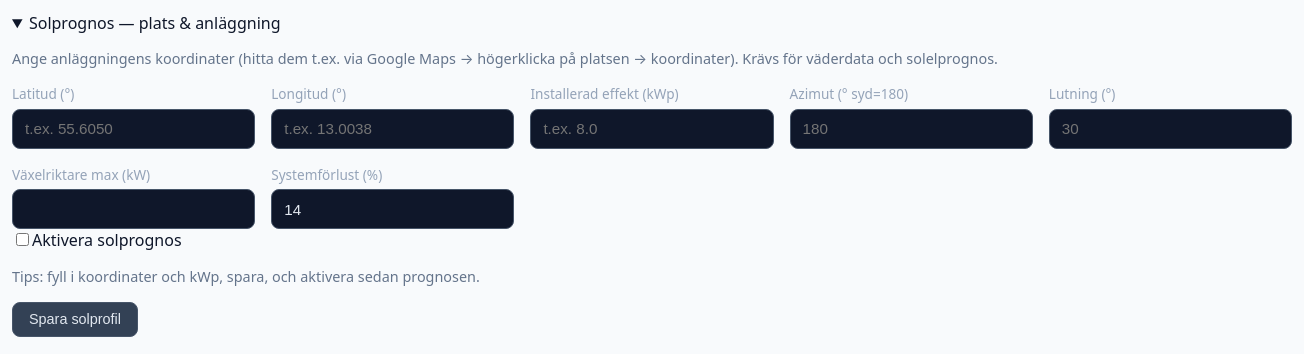
Scenario: SolarSiteConfigPanel › submits latitude and longitude
In the number field with placeholder "t.ex. 55.6050": (134, 129) [12, 109, 255, 149], type "55.605"
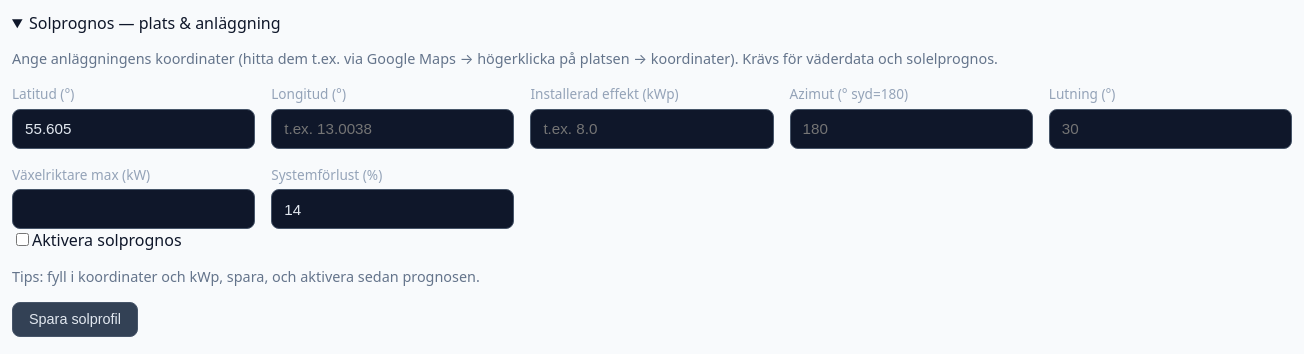
In the number field with placeholder "t.ex. 13.0038": (393, 129) [271, 109, 514, 149], type "13.0038"
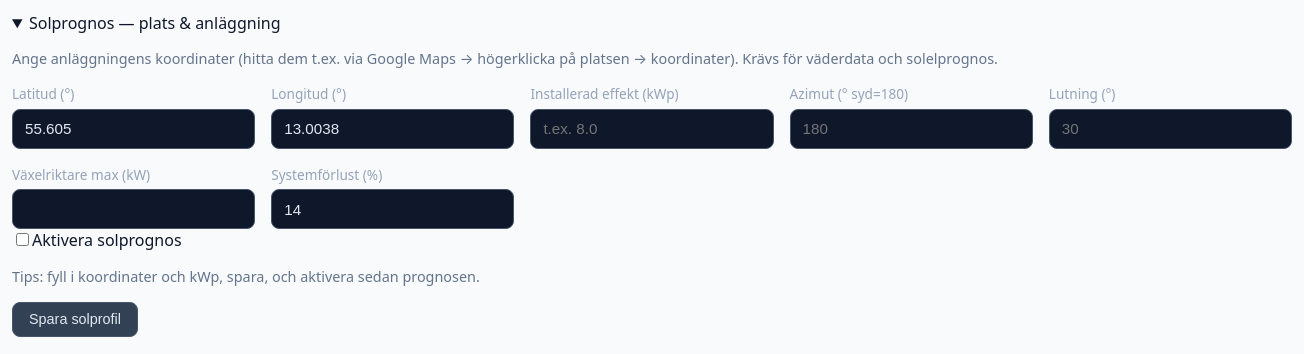
In the number field with placeholder "t.ex. 8.0": (652, 129) [530, 109, 774, 149], type "8"
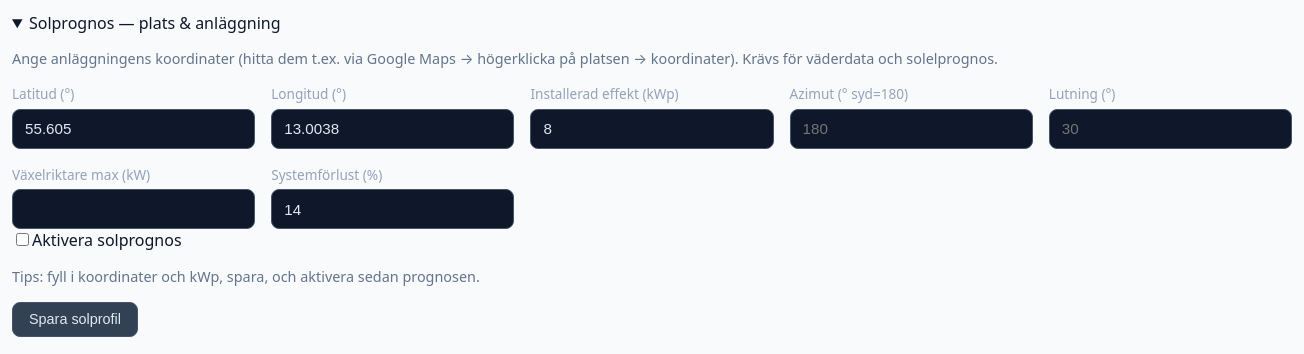
Click the button "Spara solprofil": (75, 319) [12, 302, 138, 337]
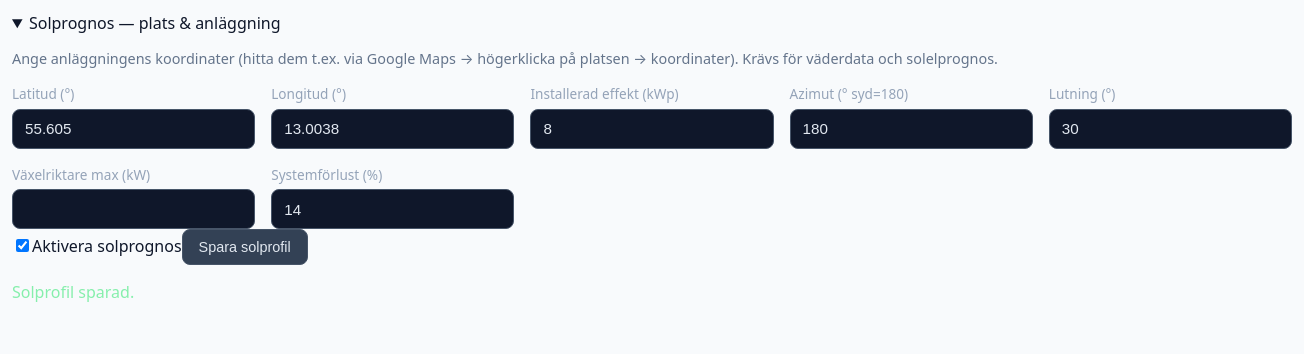
Result: the text "Solprofil sparad." is shown at [12, 281, 134, 303]
